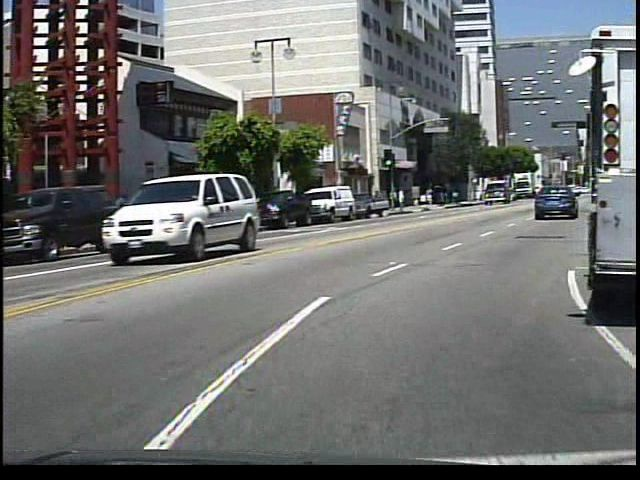person: (398, 187, 413, 215)
